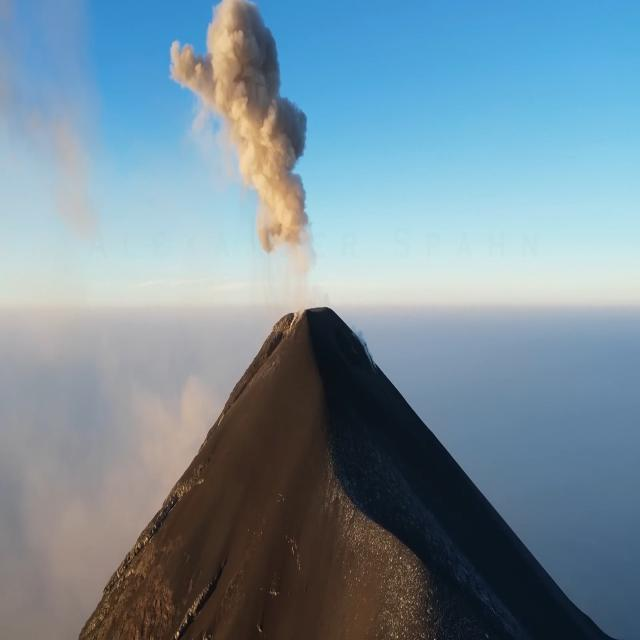Plume: (154, 0, 350, 288)
Summit: (72, 302, 634, 640)
